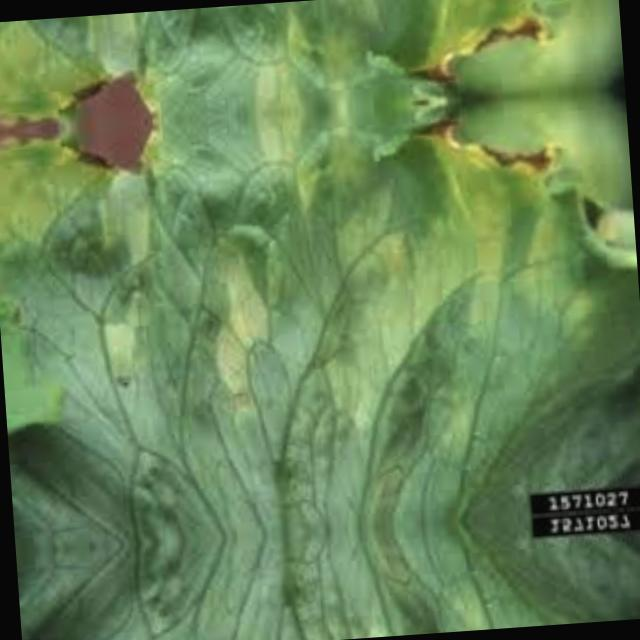Downy_mildew: (27, 88, 634, 510), (19, 0, 606, 129), (59, 546, 640, 640)
